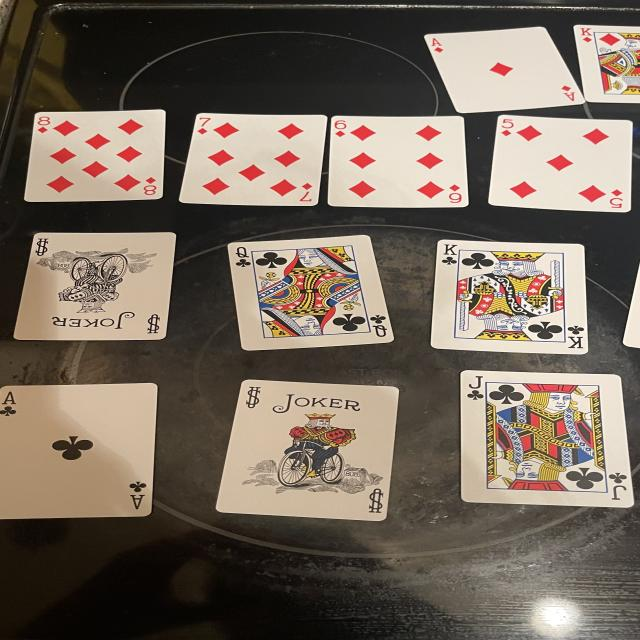5 of diamonds: (489, 115, 633, 212)
6 of diamonds: (329, 116, 469, 208)
7 of diamonds: (180, 114, 327, 206)
8 of diamonds: (24, 110, 164, 201)
Ace of clubs: (0, 384, 158, 519)
Ace of diamonds: (424, 26, 584, 112)
Jack of clubs: (460, 370, 633, 508)
Joker: (216, 380, 398, 521), (13, 232, 176, 340)
King of clubs: (431, 240, 587, 354)
King of diamonds: (573, 25, 640, 104)
Queen of clubs: (229, 235, 393, 350)
